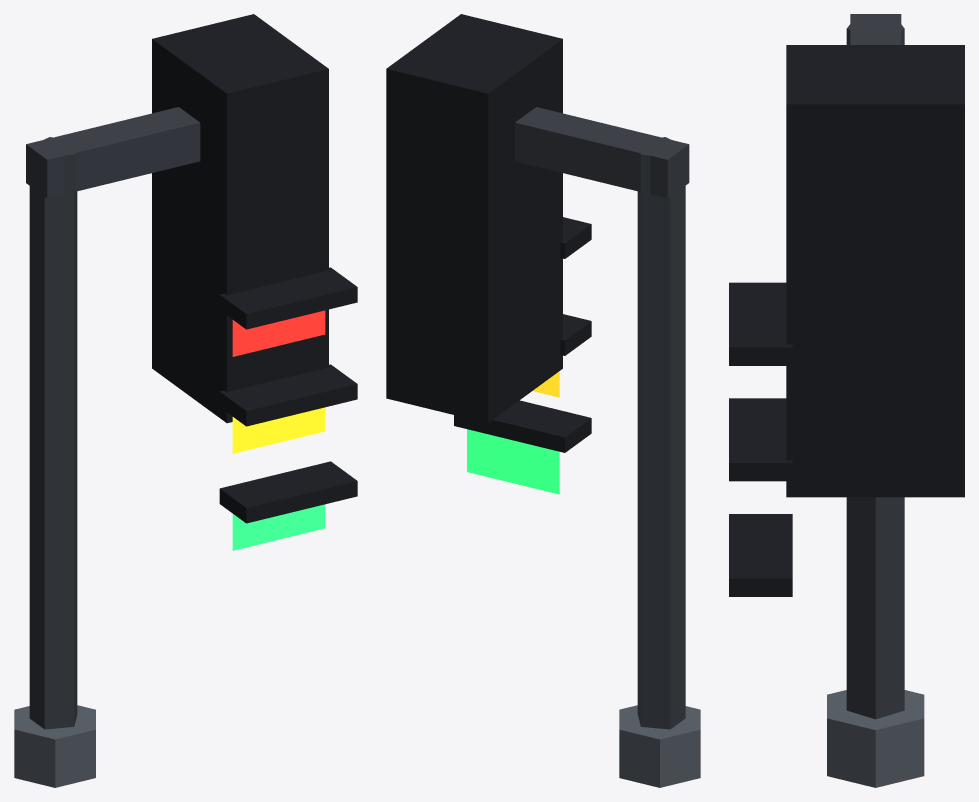
The model's file is traffic_light.glb.
The picture shows the model from 3 angles, left to right: view 1: azimuth 30°, elevation 25°; view 2: azimuth 150°, elevation 25°; view 3: azimuth 270°, elevation 25°; orthographic projection. The views are drawn at different scales.
Visible parts, largest first — view 1: traffic_light; view 2: traffic_light; view 3: traffic_light.
Part boxes in pixels (x1,y1,x2,y2): traffic_light: (14, 14, 357, 787); traffic_light: (386, 14, 700, 787); traffic_light: (729, 14, 964, 787).
Size of the model in its own units: 0.152 by 0.345 by 0.0925.
